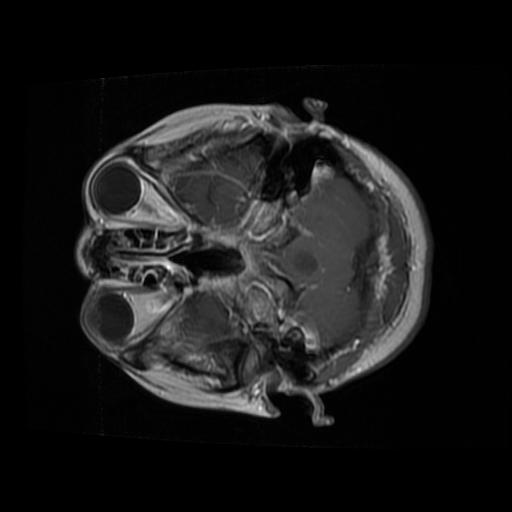glioma: (289, 248, 319, 277)
